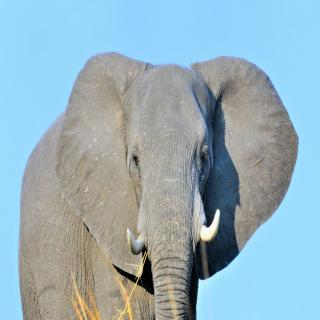Elephant: (15, 47, 300, 320)
